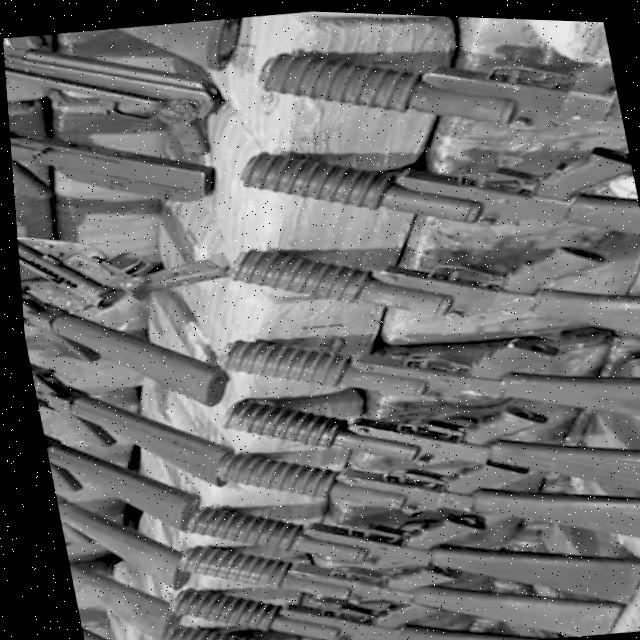firearm: (1, 12, 227, 176), (11, 183, 227, 325)
rocket: (211, 344, 640, 556), (176, 451, 640, 640), (203, 398, 640, 592), (206, 283, 640, 478), (215, 197, 640, 394), (229, 103, 640, 282), (245, 8, 624, 163), (163, 535, 572, 640)
